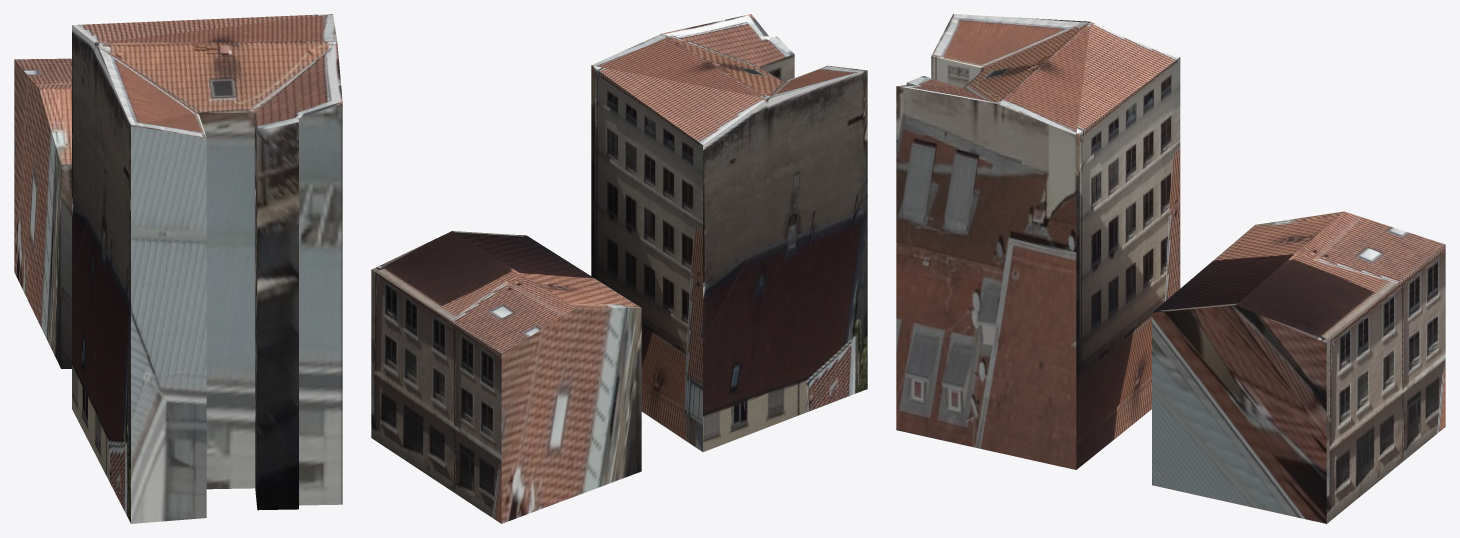
3 views of the same model, side by side, from view 1: azimuth 30°, elevation 25°; view 2: azimuth 150°, elevation 25°; view 3: azimuth 270°, elevation 25° (orthographic). The views are drawn at different scales.
Visible parts, largest first — view 1: Z_UP; view 2: Z_UP; view 3: Z_UP.
Boxes of the visible parts, x1,y1,x2,y2 form: Z_UP: (14,14,342,523); Z_UP: (371,14,867,523); Z_UP: (896,14,1445,523).
Size of the model in its own units: 22.56 by 22.01 by 31.1.
Materials: 2 (1 with a texture image).
